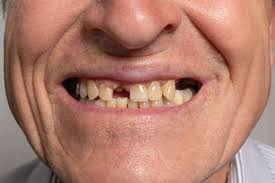normal: (130, 85, 148, 102), (148, 83, 162, 100), (173, 92, 182, 106), (183, 90, 193, 100), (79, 85, 86, 98), (127, 100, 138, 108), (160, 98, 171, 106), (105, 100, 115, 108), (140, 101, 149, 108), (150, 100, 160, 106), (75, 84, 79, 94), (95, 101, 104, 105)
rough: (113, 85, 129, 100), (176, 81, 188, 91)
yellow: (86, 81, 98, 99), (99, 84, 112, 100), (163, 82, 175, 99), (116, 98, 127, 108)
